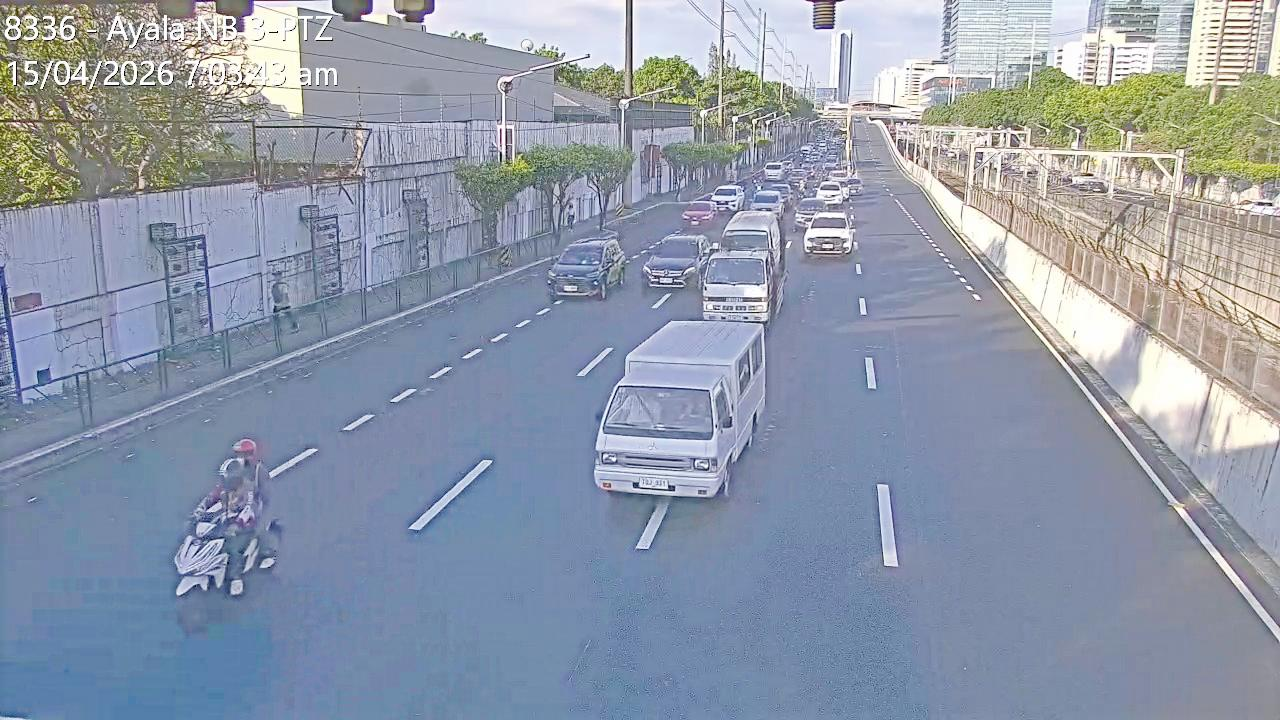Car: (596, 316, 770, 508), (546, 234, 628, 301), (641, 233, 713, 292), (802, 211, 855, 258), (680, 200, 722, 227), (793, 197, 827, 230), (750, 187, 787, 217), (710, 184, 746, 212), (814, 180, 846, 205)
Motor: (156, 440, 284, 624)
Not Accident: (796, 174, 851, 262)
